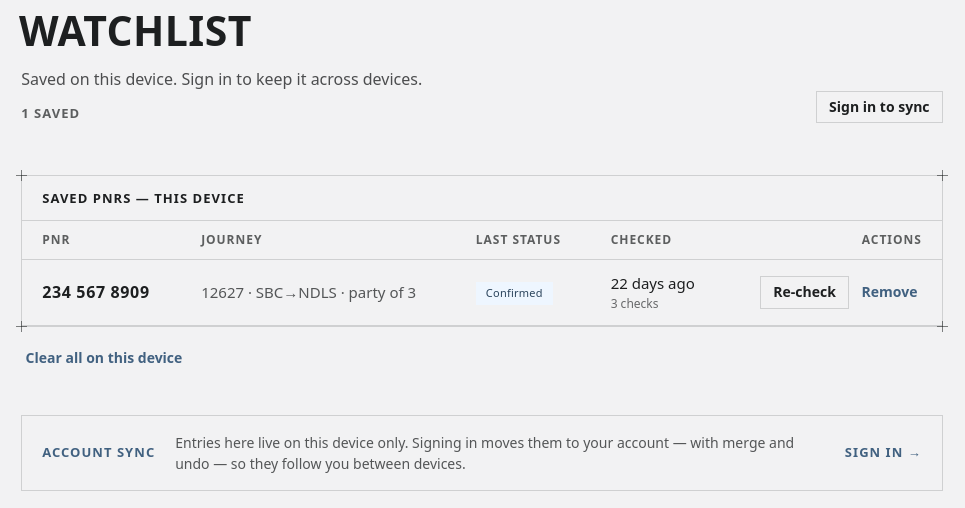
Scenario: WatchlistView — this device › shows the empty plate, and offers undo there when the last entry was removed
Click the button with test id "watchlist-remove": x=889, y=292 [857,276,922,308]
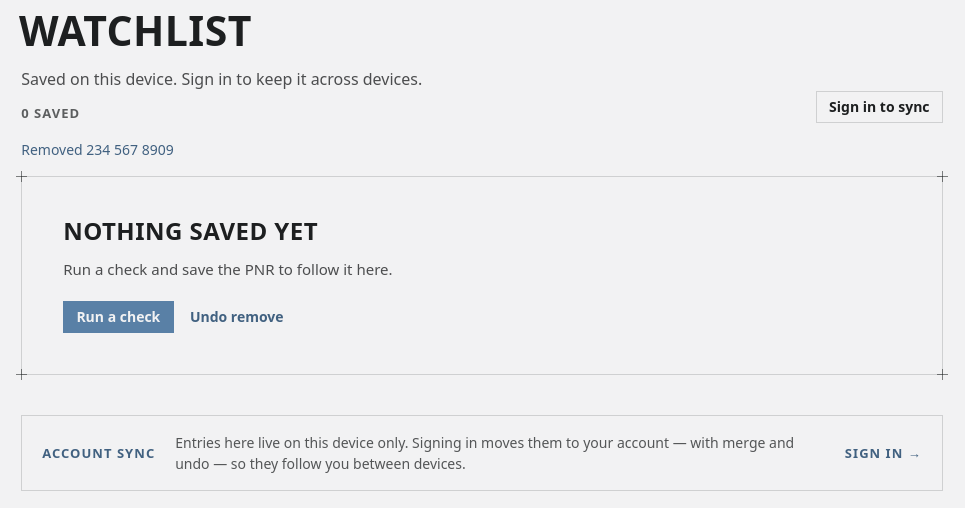
Now the heading "Nothing saved yet" is shown, box [63,214,318,247]
Now the text "Run a check and save the PNR to follow it here." is shown, box [63,259,392,279]
Now the table is gone
